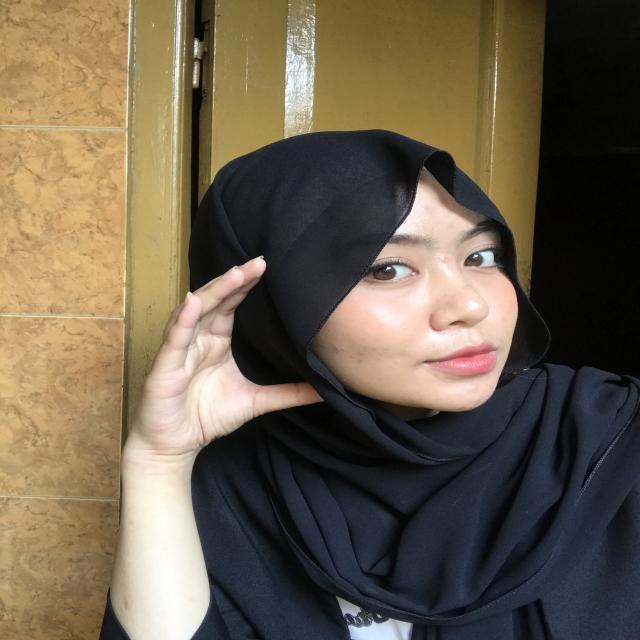mendengar: (130, 246, 314, 452)
